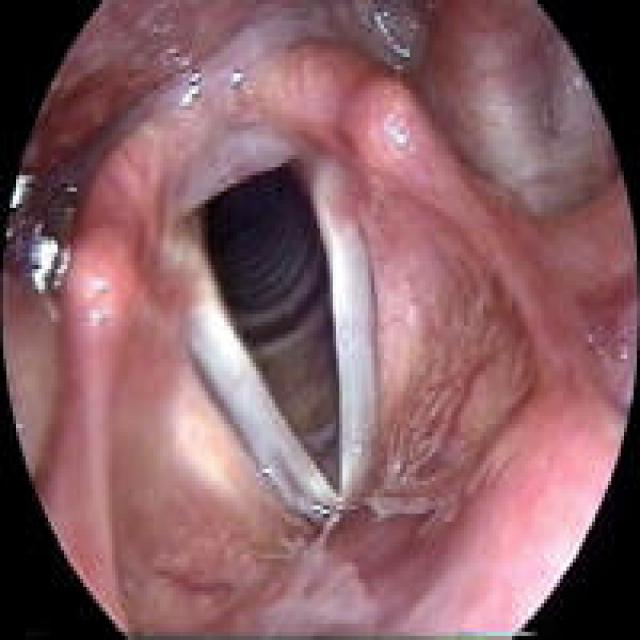arytenoid cartilagerotation: (57, 46, 442, 353)
larynxrotation: (150, 124, 381, 521)
